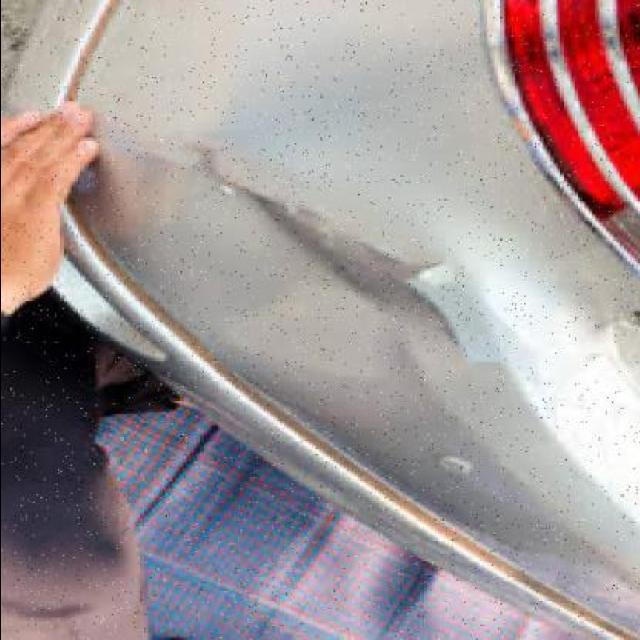rear-bumper-dent: (3, 0, 640, 526)
